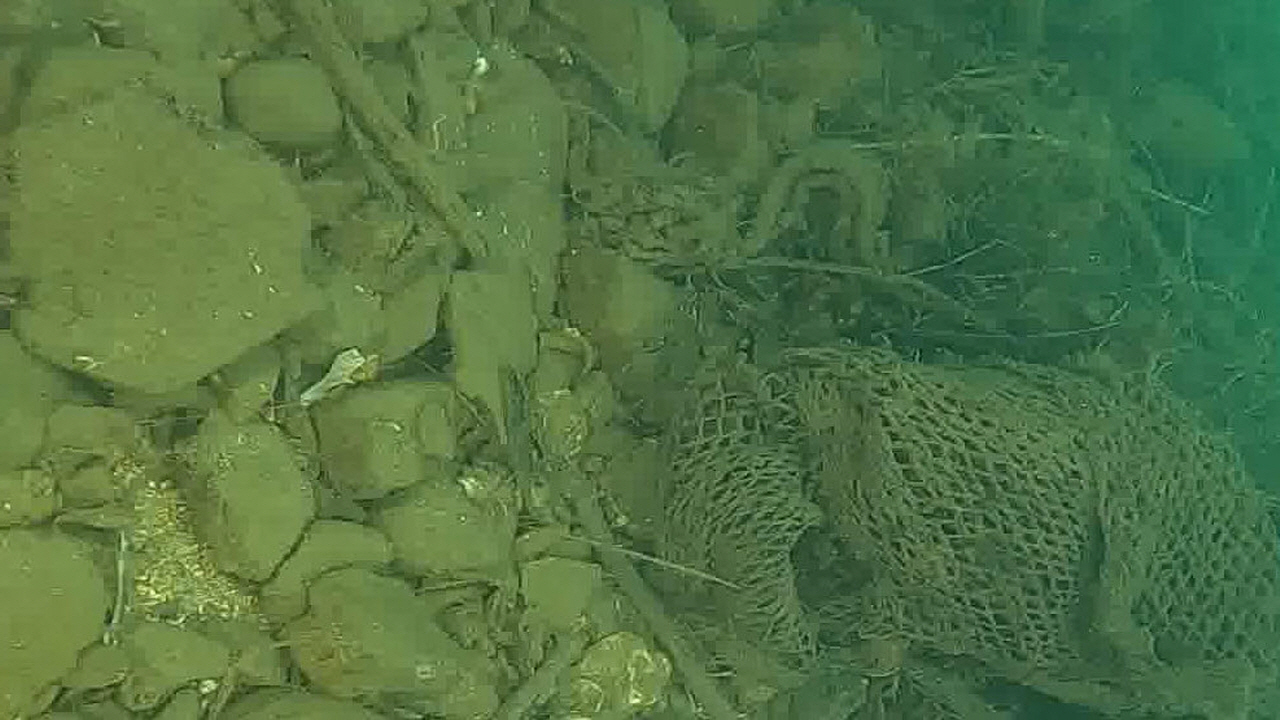fish net: (659, 344, 1280, 720)
